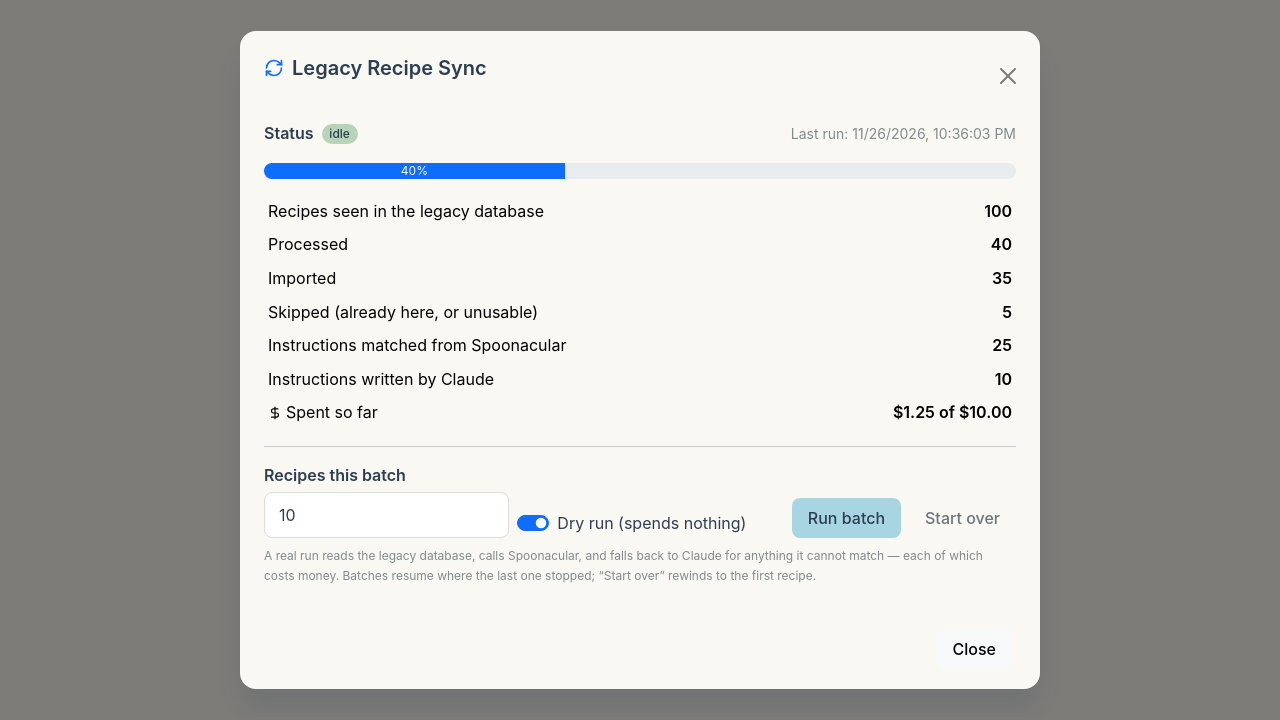
Test: SyncDashboard › shows a failed run instead of failing silently
The width and height of the screenshot is (1280, 720).
Click the button "Run batch" at [846, 518], box [792,498,901,538]
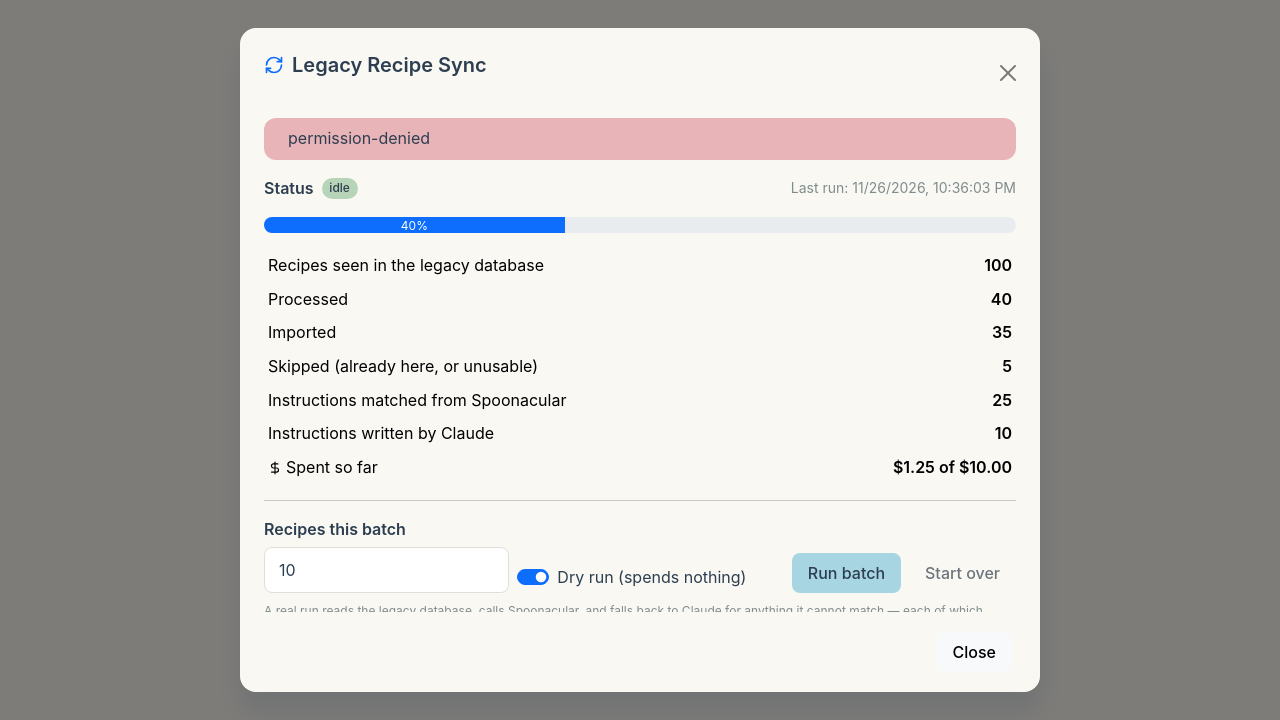
Check: the text "permission-denied" is shown, box [264,118,1016,160]
